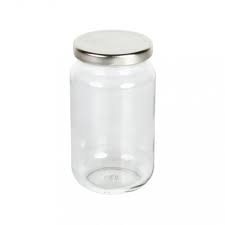glass_bottle: (59, 24, 168, 204)
